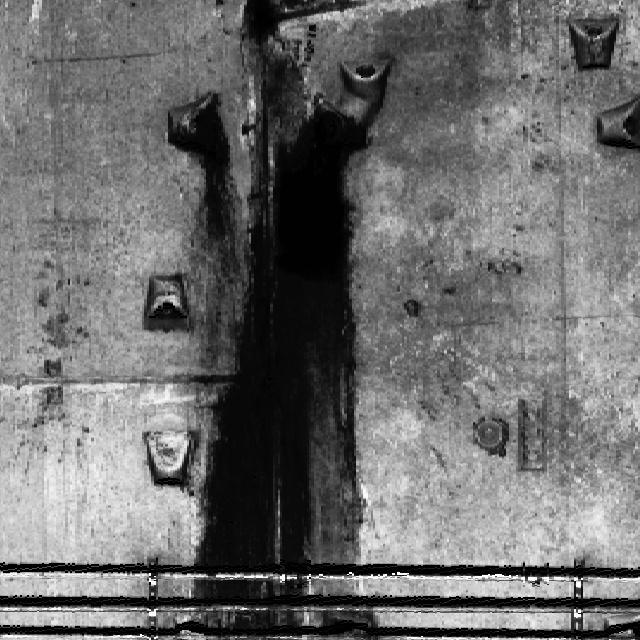leakage: (194, 22, 378, 639)
